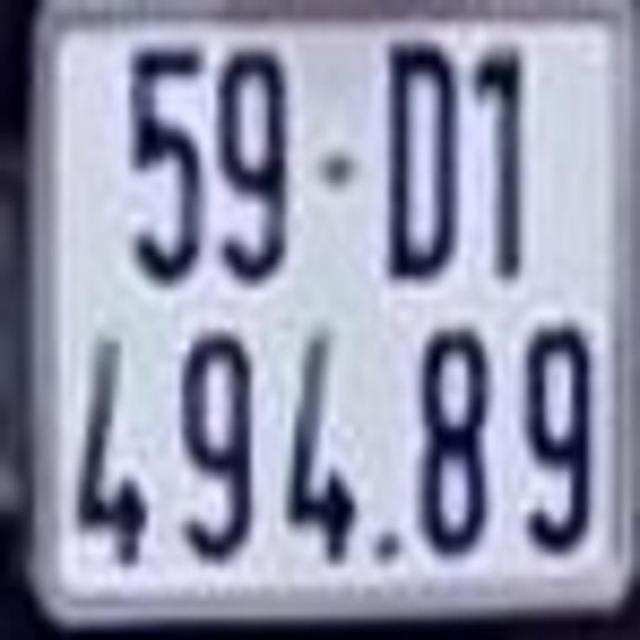1: (473, 50, 539, 285)
4: (75, 330, 161, 570), (286, 332, 366, 566)
5: (127, 40, 211, 291)
8: (418, 328, 492, 553)
9: (216, 44, 299, 295), (178, 328, 262, 562), (528, 323, 590, 552)
D: (384, 40, 464, 282)
